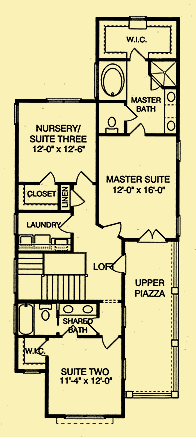door: (137, 228, 167, 245), (108, 253, 128, 274), (121, 104, 140, 123), (99, 333, 119, 351), (101, 219, 122, 236), (69, 188, 87, 207), (72, 169, 93, 184), (36, 171, 56, 185), (126, 48, 145, 62), (59, 216, 72, 234)
large_sink: (35, 302, 54, 322), (103, 115, 121, 135)
small_sink: (162, 88, 177, 135), (58, 304, 97, 318)
stairs: (18, 253, 89, 300)
tub: (98, 61, 126, 100), (19, 301, 35, 335)
